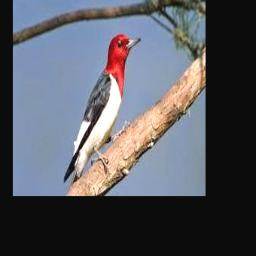Woodpecker: (63, 33, 141, 190)
